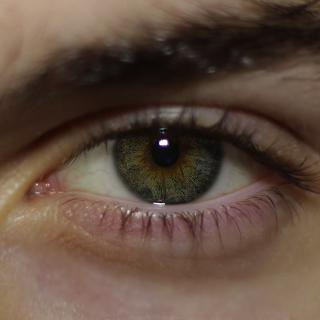pupil: (149, 136, 180, 167)
